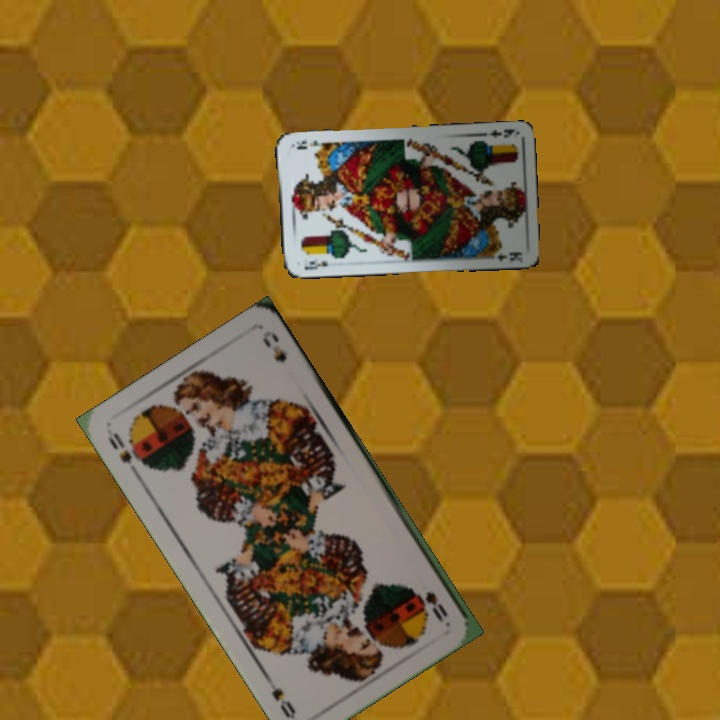EK: (478, 125, 517, 141), (301, 254, 331, 273)
SO: (103, 428, 146, 470), (421, 587, 451, 624)
